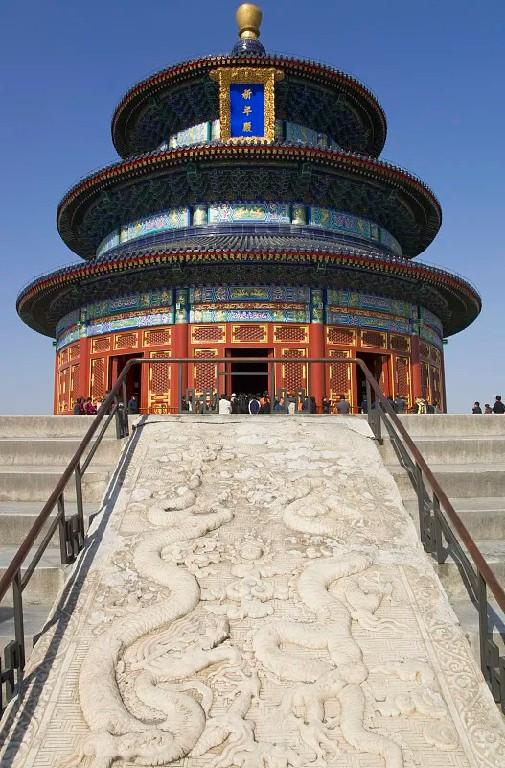Heaven: (14, 5, 484, 418)
